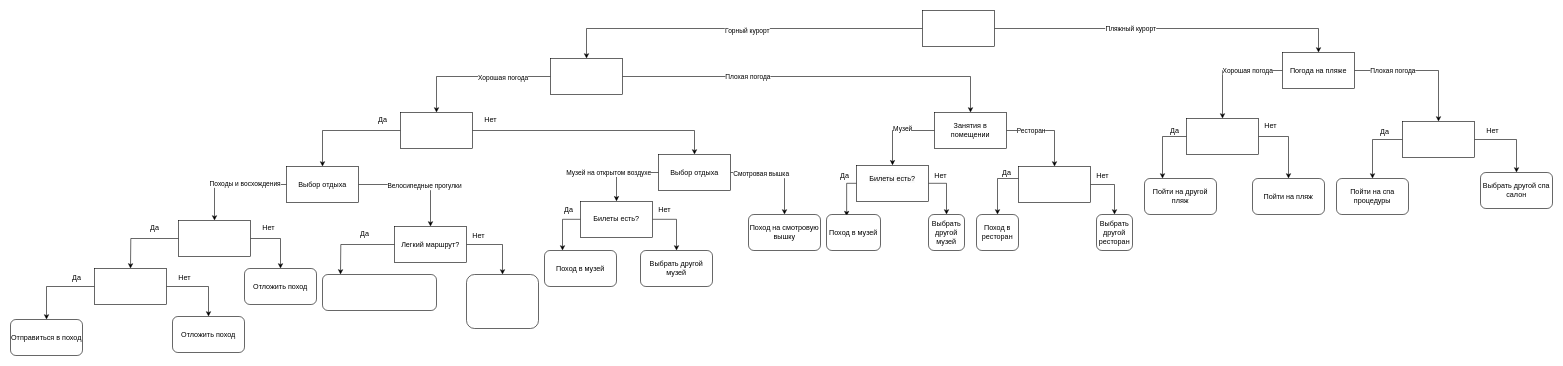
The diagram is 1563 pixels wide and 366 high, and some of its shapes have lost their labels. The shapes that lost their labels are listed below. From the top down, each one's centre as x and y in pixels, then its label:
At (958,28): "Выбор места для отпуска".
At (586,76): "Погода в горах".
At (436,130): "Активный отдых в горах".
At (1222,136): "На пляже много народу?".
At (1438,139): "Есть ли запись на спа процедуры?".
At (1054,184): "Есть свободный столик?".
At (214,238): "Есть ли свободный инструктор".
At (130,286): "Есть ли подходящее снаряжение".
At (379,292): "Отправиться в велосипедную прогулку по легким тропам и грунтовым дорогам".
At (502,301): "Отправиться в велосипедную прогулку по сложным горным тропам".
